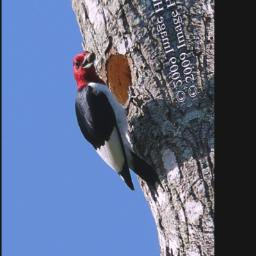Woodpecker: (57, 21, 171, 226)
